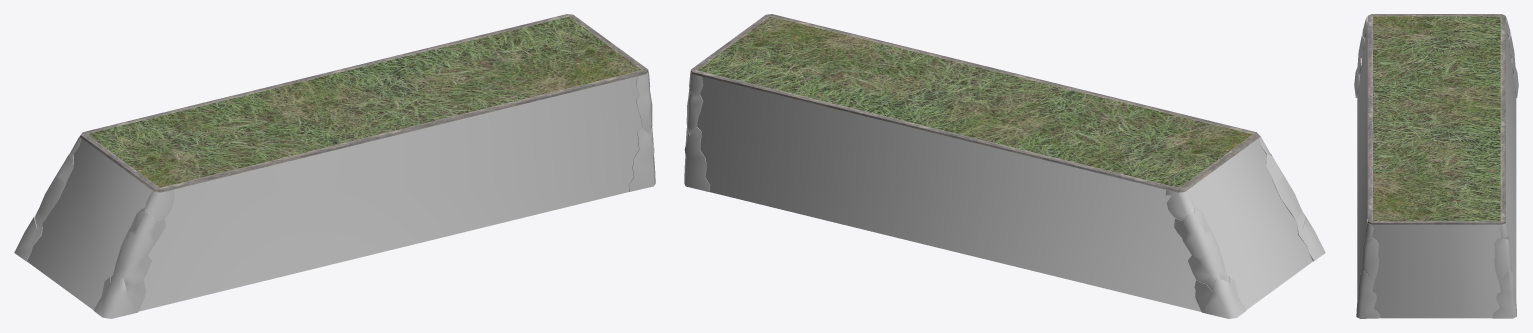
Rendered from JpHouseJ_StoneWall_10c.fbx.
3 renders of one model, left to right at view 1: azimuth 30°, elevation 25°; view 2: azimuth 150°, elevation 25°; view 3: azimuth 270°, elevation 25°, orthographic. The views are drawn at different scales.
Visible parts, largest first — view 1: JpHouseJ_StoneWall_10c; view 2: JpHouseJ_StoneWall_10c; view 3: JpHouseJ_StoneWall_10c.
Part boxes in pixels (x1,y1,x2,y2): JpHouseJ_StoneWall_10c: (14,14,655,318); JpHouseJ_StoneWall_10c: (684,14,1325,318); JpHouseJ_StoneWall_10c: (1354,14,1518,318).
Bounding box in the file's own units: 21.15 × 4.03 × 6.25.
